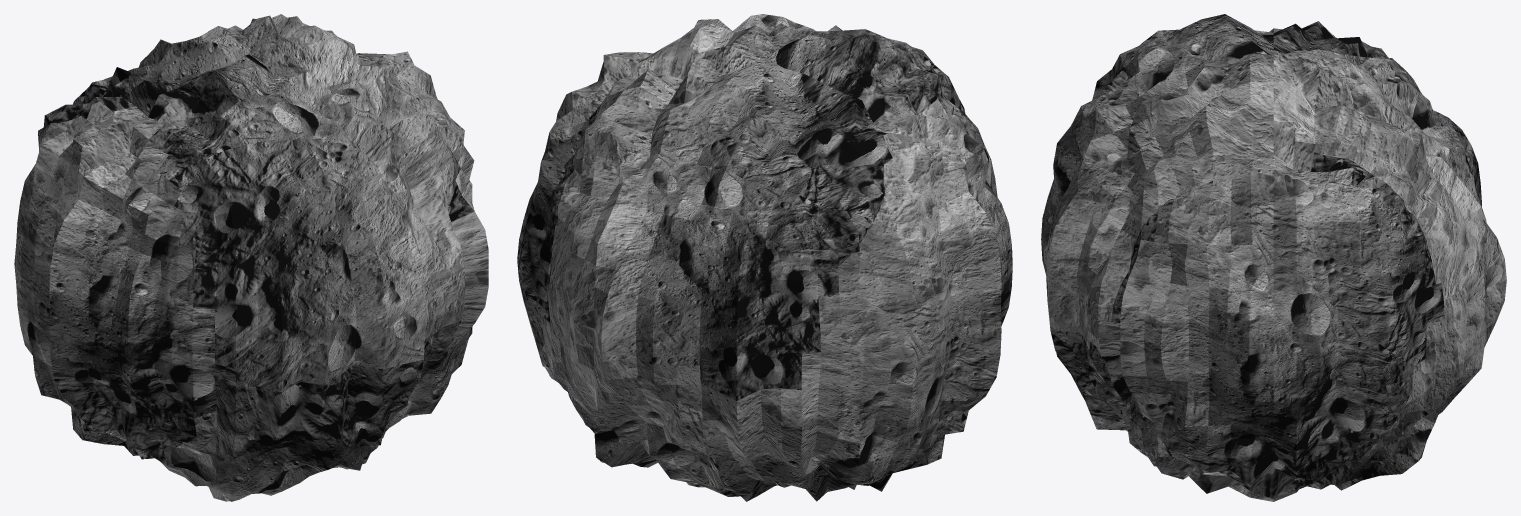
File: asteroid54.obj
3 renders of one model, left to right at view 1: azimuth 30°, elevation 25°; view 2: azimuth 150°, elevation 25°; view 3: azimuth 270°, elevation 25°, orthographic. The views are drawn at different scales.
Visible parts, largest first — view 1: Cube_Cube.002; view 2: Cube_Cube.002; view 3: Cube_Cube.002.
Boxes of the visible parts, <box> form: Cube_Cube.002: <box>14,14,488,501</box>; Cube_Cube.002: <box>517,14,1012,501</box>; Cube_Cube.002: <box>1041,14,1506,501</box>.
Bounding box in the file's own units: 1.81 × 1.75 × 1.72.
